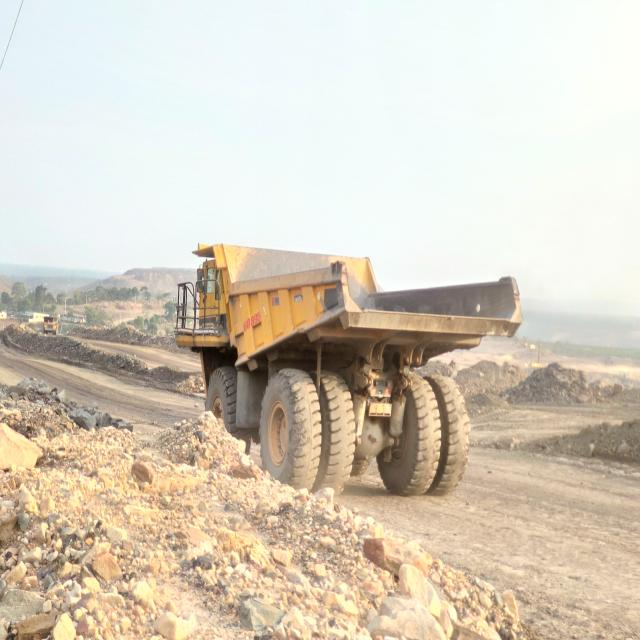dump_truck: (175, 243, 521, 493)
